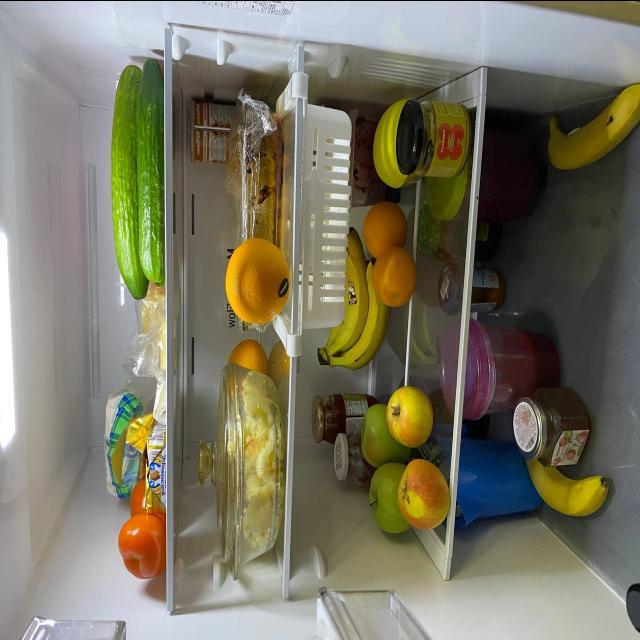Apple: (399, 458, 448, 532), (389, 384, 434, 449), (370, 457, 404, 539), (358, 404, 396, 462)
Banana: (537, 82, 640, 166), (323, 230, 384, 368), (520, 450, 609, 520)
Cucumber: (111, 68, 145, 296), (134, 41, 165, 287)
Orange: (223, 238, 291, 324), (370, 240, 414, 312), (359, 200, 404, 258), (223, 339, 266, 377)
Tomato: (116, 510, 165, 580), (126, 469, 146, 519)
